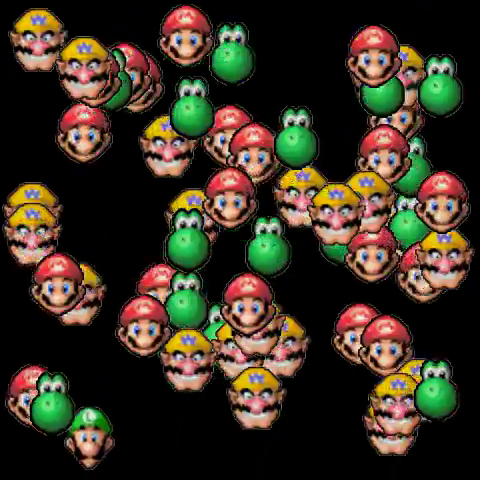luigi: (64, 406, 116, 467)
